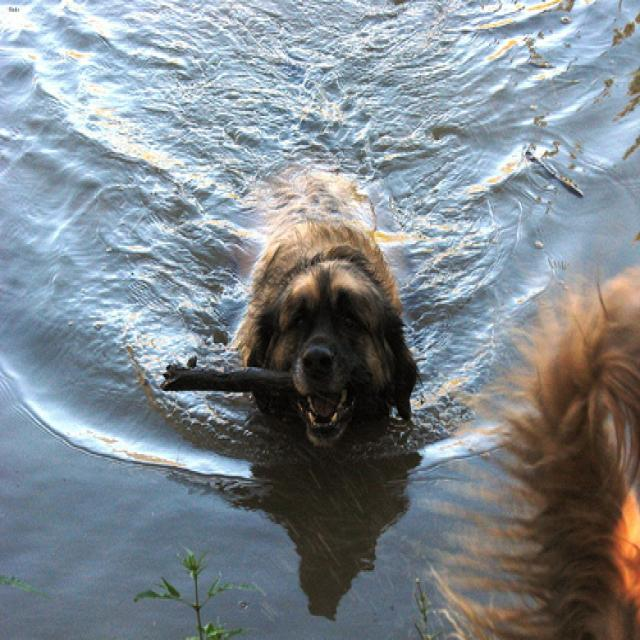dog-leonberger: (225, 159, 429, 468)
